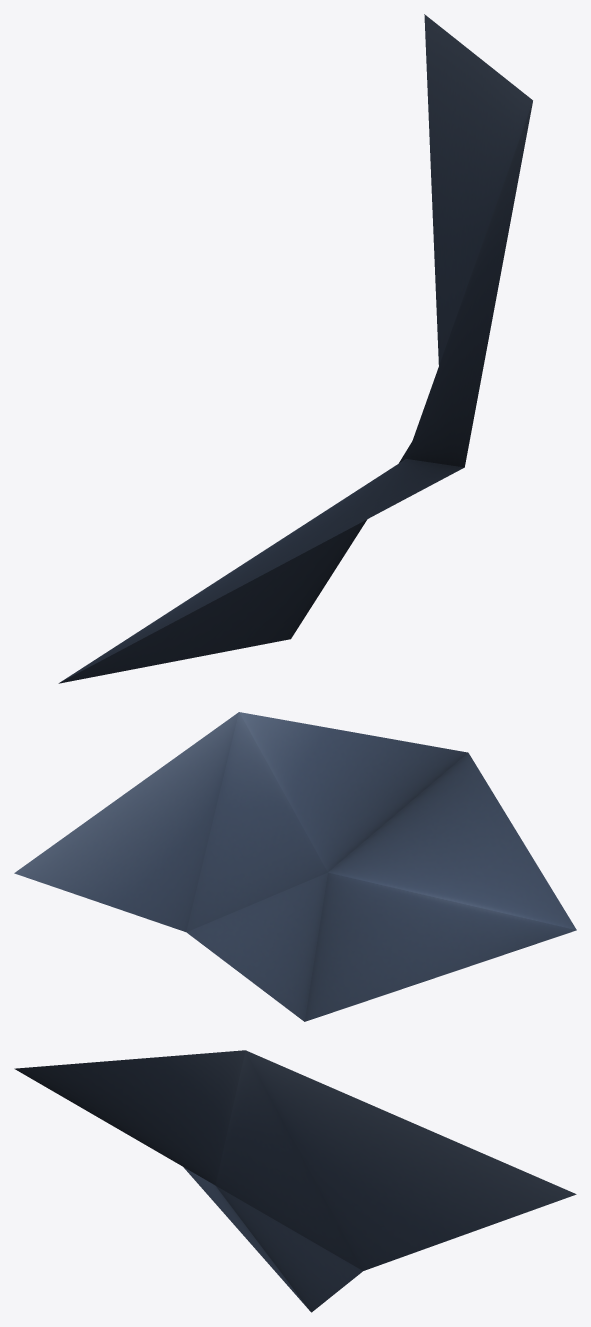
File: SM_Floor_Vert_A_A.fbx
3 renders of one model, top to bottom at view 1: azimuth 30°, elevation 25°; view 2: azimuth 150°, elevation 25°; view 3: azimuth 270°, elevation 25°, orthographic. The views are drawn at different scales.
Parts seen in each view (by area): view 1: pCube195; view 2: pCube195; view 3: pCube195.
Boxes of the visible parts, x1,y1,x2,y2 form: pCube195: [58, 14, 532, 683]; pCube195: [14, 712, 576, 1021]; pCube195: [14, 1050, 576, 1312].
Bounding box in the file's own units: 0.5791 × 0.3958 × 0.6379.
